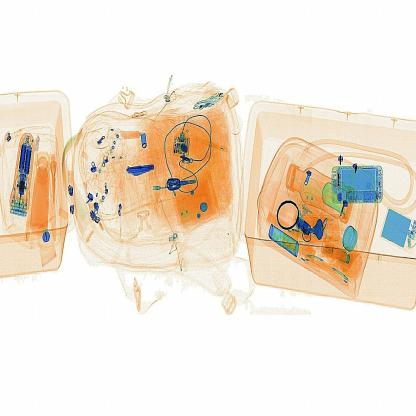knife: (116, 160, 158, 186)
